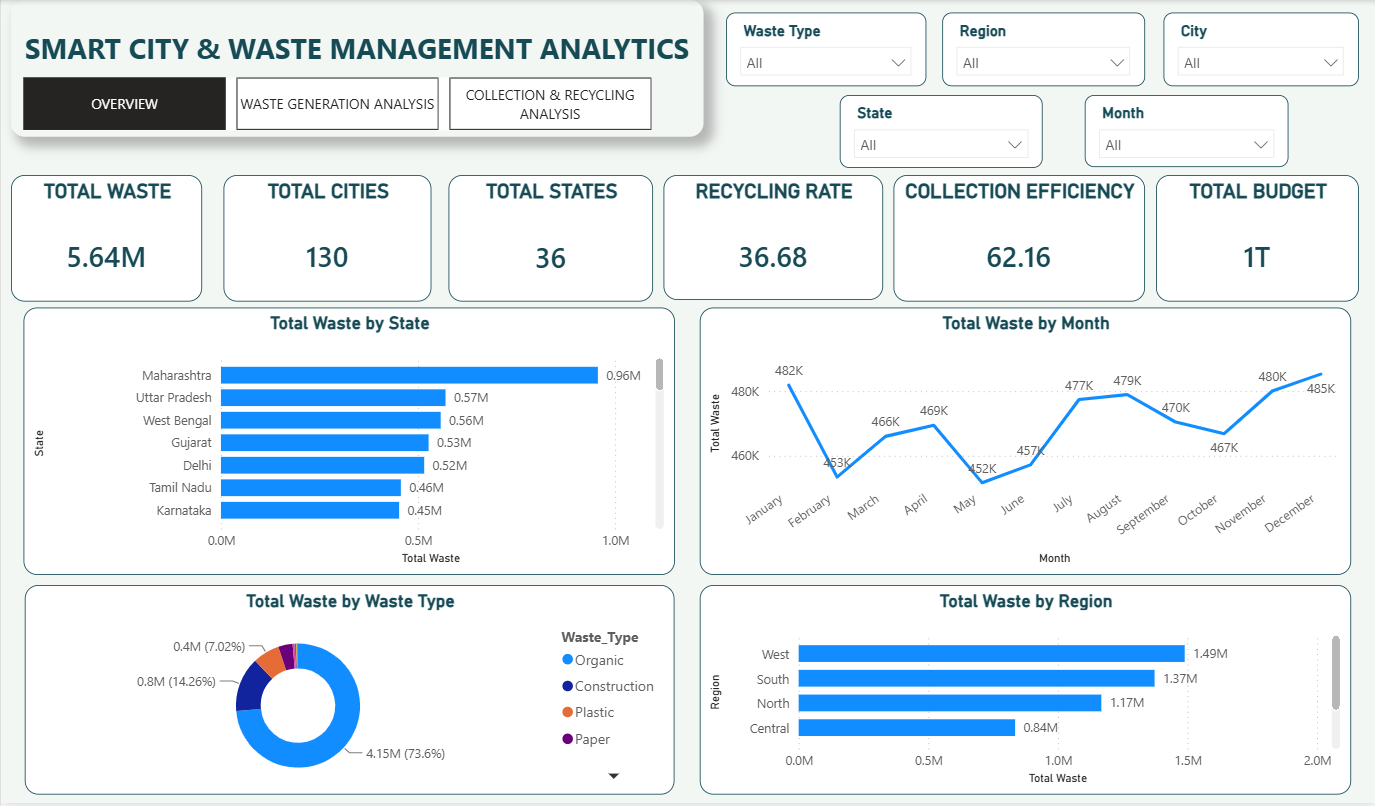

The dashboard page shown, as its layout file describes it:
{"tool":"powerbi","page":{"name":"OVERVIEW","canvas":[1313,767],"ordinal":0},"visuals":[{"type":"textbox","box":[9.7,0,660.9,130.2],"z":0},{"type":"cardVisual","title":"TOTAL WASTE","fields":{"Data":["DateTable.Total Waste"]},"box":[9.7,166.7,182.6,120.5],"z":1000},{"type":"cardVisual","title":"TOTAL CITIES","fields":{"Data":["DateTable.Total Cities"]},"box":[211.8,166.7,198.4,120.5],"z":2000},{"type":"cardVisual","title":"TOTAL STATES","fields":{"Data":["DateTable.Total States"]},"box":[426.7,167.1,195.3,120.8],"z":3000},{"type":"cardVisual","title":"COLLECTION EFFICIENCY","fields":{"Data":["DateTable.Collection Efficiency"]},"box":[852,166.7,239.8,120.5],"z":4000},{"type":"cardVisual","title":"RECYCLING RATE","fields":{"Data":["DateTable.Recycling Rate"]},"box":[632.3,167.1,209.5,119.5],"z":5000},{"type":"cardVisual","title":"TOTAL BUDGET","fields":{"Data":["DateTable.Total Budget"]},"box":[1102.7,166.7,193.5,120.5],"z":6000},{"type":"clusteredBarChart","fields":{"Y":["DateTable.Total Waste"],"Category":["waste_management wsql.State"]},"box":[21.5,293.4,621.4,255.3],"z":7000},{"type":"donutChart","title":"Total Waste by Waste Type","fields":{"Category":["waste_management wsql.Waste_Type"],"Y":["DateTable.Total Waste"]},"box":[22.7,558.2,620.2,200.4],"z":8000},{"type":"lineChart","fields":{"Category":["DateTable.Date.Variation.Date Hierarchy.Month"],"Y":["DateTable.Total Waste"]},"box":[666.8,293.4,621.4,255.3],"z":9000},{"type":"clusteredBarChart","fields":{"Category":["waste_management wsql.Region"],"Y":["DateTable.Total Waste"]},"box":[666.8,558.2,621.4,200.4],"z":10000},{"type":"slicer","fields":{"Values":["DateTable.Date.Variation.Date Hierarchy.Month"]},"box":[1034.1,90.7,194.4,69.2],"z":11000},{"type":"slicer","fields":{"Values":["waste_management wsql.State"]},"box":[800.4,90.7,193.5,69.4],"z":12000},{"type":"slicer","fields":{"Values":["waste_management wsql.City"]},"box":[1109.3,11.9,186.1,70.4],"z":13000},{"type":"slicer","fields":{"Values":["waste_management wsql.Region"]},"box":[898.2,11.9,193.2,70.4],"z":14000},{"type":"slicer","fields":{"Values":["waste_management wsql.Waste_Type"]},"box":[691.4,11.6,190.8,70.4],"z":15000},{"type":"pageNavigator","box":[21.8,74.5,600,50],"z":16000}]}

Visuals, with their boxes in screenshot pixels (x1, y1, x2, y2), scaled from the page's 1313x767 canvas onto the 1375x806 screenshot:
textbox: [10,0,702,137]
"TOTAL WASTE" cardVisual: [10,175,201,302]
"TOTAL CITIES" cardVisual: [222,175,430,302]
"TOTAL STATES" cardVisual: [447,176,651,303]
"COLLECTION EFFICIENCY" cardVisual: [892,175,1143,302]
"RECYCLING RATE" cardVisual: [662,176,882,301]
"TOTAL BUDGET" cardVisual: [1155,175,1357,302]
clusteredBarChart - DateTable.Total Waste x waste_management wsql.State: [23,308,673,577]
"Total Waste by Waste Type" donutChart: [24,587,673,797]
lineChart - DateTable.Date.Variation.Date Hierarchy.Month x DateTable.Total Waste: [698,308,1349,577]
clusteredBarChart - waste_management wsql.Region x DateTable.Total Waste: [698,587,1349,797]
slicer - DateTable.Date.Variation.Date Hierarchy.Month: [1083,95,1287,168]
slicer - waste_management wsql.State: [838,95,1041,168]
slicer - waste_management wsql.City: [1162,13,1357,86]
slicer - waste_management wsql.Region: [941,13,1143,86]
slicer - waste_management wsql.Waste_Type: [724,12,924,86]
pageNavigator: [23,78,651,131]
